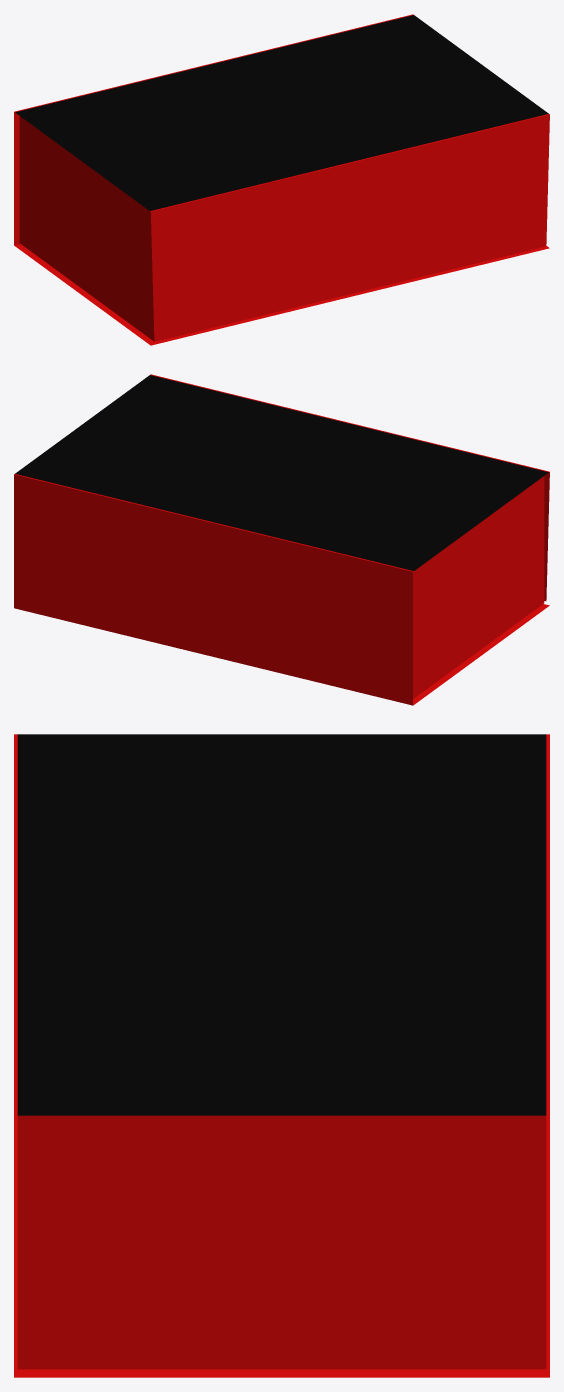
Rendered from откриветcasket.glb.
3 views of the same model, one above another, from view 1: azimuth 30°, elevation 25°; view 2: azimuth 150°, elevation 25°; view 3: azimuth 270°, elevation 25° (orthographic). The views are drawn at different scales.
Visible parts, largest first — view 1: LogoPlane, FrontFlap, Inner, Base, TopFlap; view 2: Base, LogoPlane, Inner, TopFlap, FrontFlap; view 3: LogoPlane, Inner, Base, TopFlap.
Boxes of the visible parts, box(x1,y1,x2,y2) form: LogoPlane: box(15, 15, 548, 210); FrontFlap: box(151, 114, 549, 341); Inner: box(19, 116, 544, 341); Base: box(14, 112, 549, 345); TopFlap: box(14, 14, 549, 211); Base: box(14, 474, 549, 705); LogoPlane: box(15, 375, 548, 570); Inner: box(413, 476, 544, 698); TopFlap: box(14, 374, 549, 571); FrontFlap: box(544, 472, 549, 600); LogoPlane: box(17, 734, 546, 1115); Inner: box(17, 1115, 546, 1369); Base: box(14, 1115, 549, 1377); TopFlap: box(14, 734, 549, 1115).
Size of the model in its own units: 256 by 82 by 152.
Materials: 7 (1 with a texture image).
